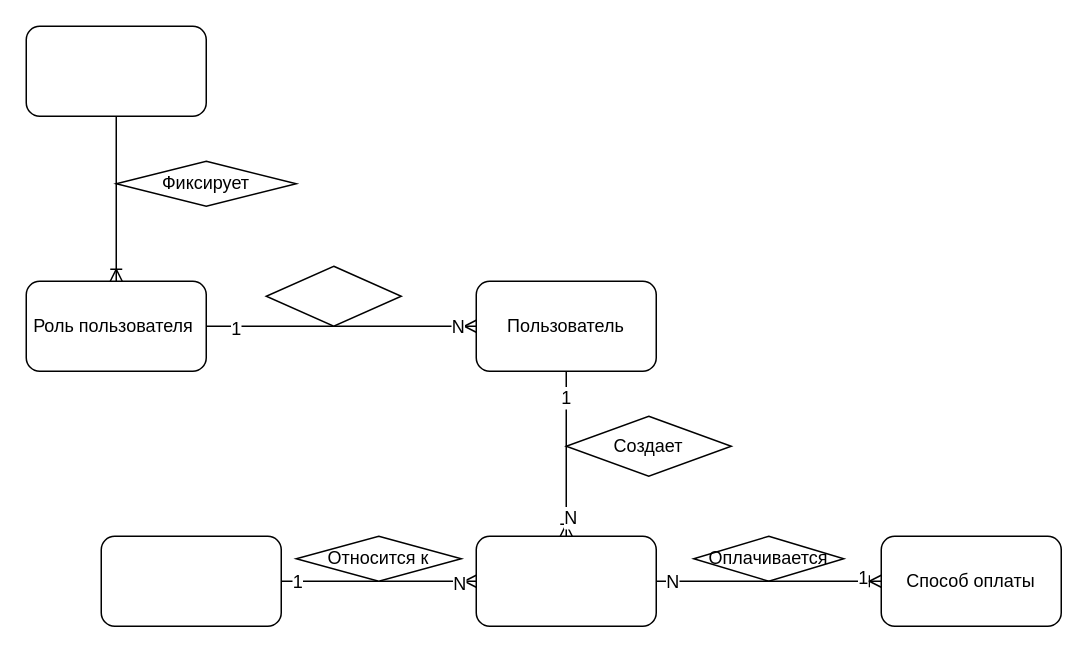
This 1088x653 diagram has some shape labels left out. Here are the shapes that lost their labels. From the top down, the centre of each, then its label:
At (115,70): "Журнал Действий".
At (333,295): "Назначается".
At (190,580): "Категория".
At (565,580): "Финаносвая операция".
